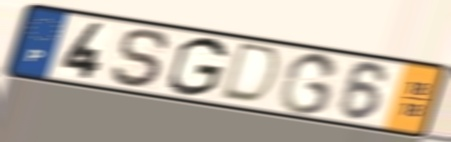4: (57, 21, 106, 81)
6: (334, 60, 395, 123)
D: (215, 40, 285, 108)
G: (275, 51, 342, 117), (164, 35, 231, 99)
S: (109, 26, 174, 90)
